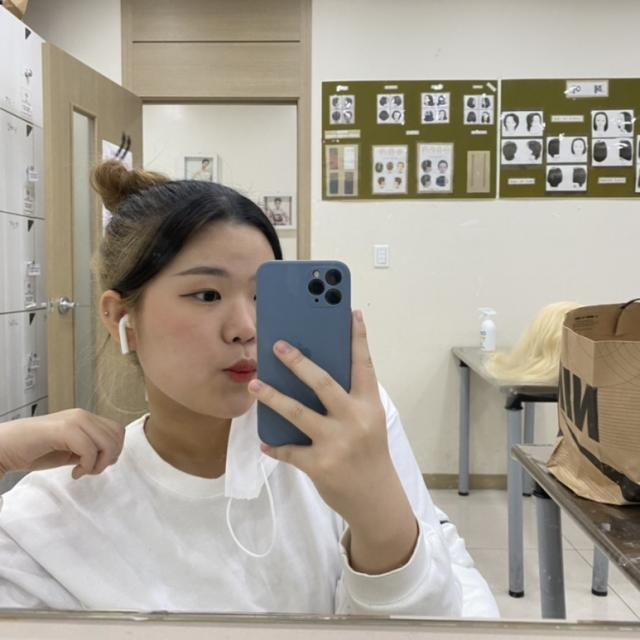phone: (255, 260, 352, 444)
